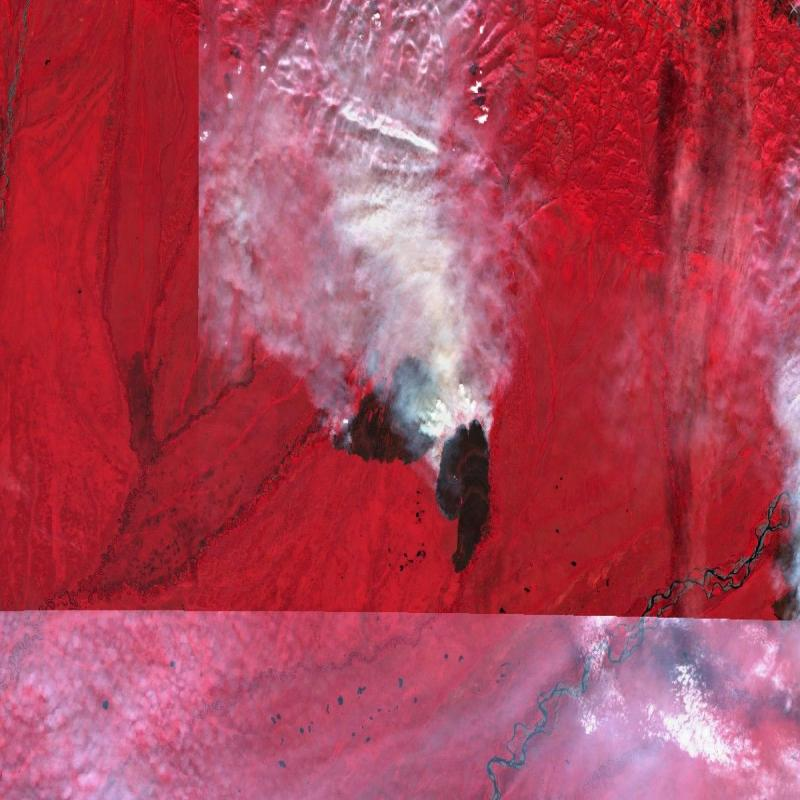fire: (325, 342, 492, 526)
